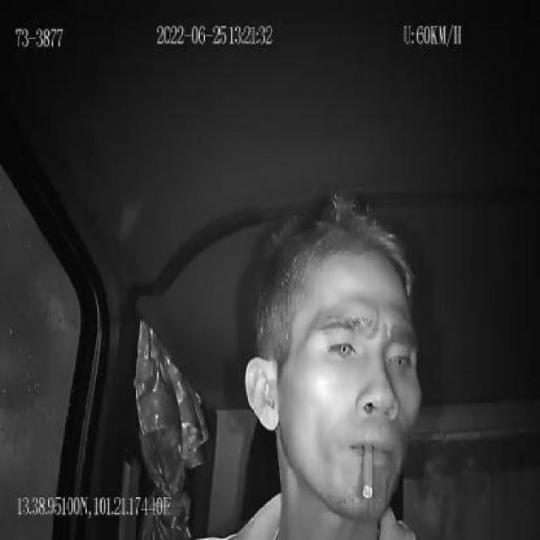smoking: (361, 441, 374, 499)
